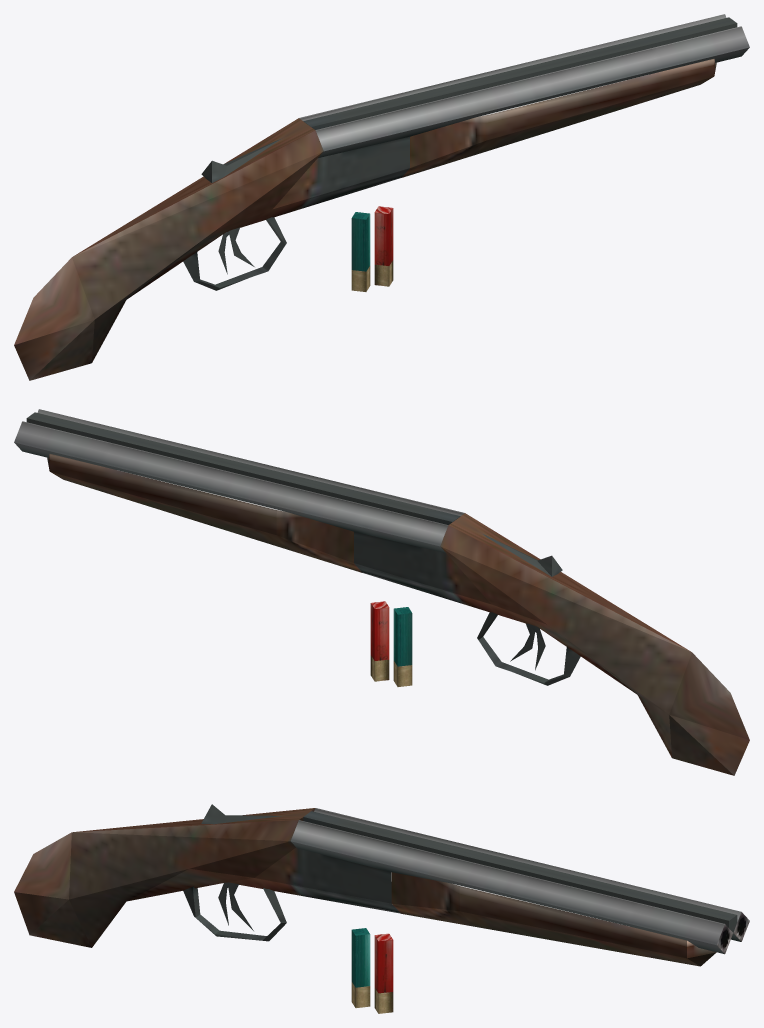
The model's file is gun.glb.
3 renders of one model, top to bottom at view 1: azimuth 30°, elevation 25°; view 2: azimuth 150°, elevation 25°; view 3: azimuth 330°, elevation 25°, orthographic.
Parts seen in each view (by area): view 1: Body.002, HandGaurd&Barrel.001, ShellLowPolyRed.006, ShellLowPolyGreen.006, Trigger&Trigger.001; view 2: Body.002, HandGaurd&Barrel.001, ShellLowPolyRed.006, ShellLowPolyGreen.006, Trigger&Trigger.001; view 3: HandGaurd&Barrel.001, Body.002, ShellLowPolyRed.006, ShellLowPolyGreen.006, Trigger&Trigger.001.
Boxes of the visible parts, x1,y1,x2,y2 form: Body.002: (14,118,409,380); HandGaurd&Barrel.001: (299,14,749,177); ShellLowPolyRed.006: (374,206,393,286); ShellLowPolyGreen.006: (351,212,370,291); Trigger&Trigger.001: (201,139,280,274); Body.002: (354,513,749,775); HandGaurd&Barrel.001: (14,409,464,572); ShellLowPolyRed.006: (370,601,389,681); ShellLowPolyGreen.006: (393,607,412,686); Trigger&Trigger.001: (483,534,562,670); HandGaurd&Barrel.001: (290,808,749,966); Body.002: (14,808,400,947); ShellLowPolyRed.006: (374,933,393,1013); ShellLowPolyGreen.006: (351,928,370,1008); Trigger&Trigger.001: (201,804,281,930).
Size of the model in its own units: 1.86 by 0.4668 by 0.1489.
5 materials, 5 textured.
